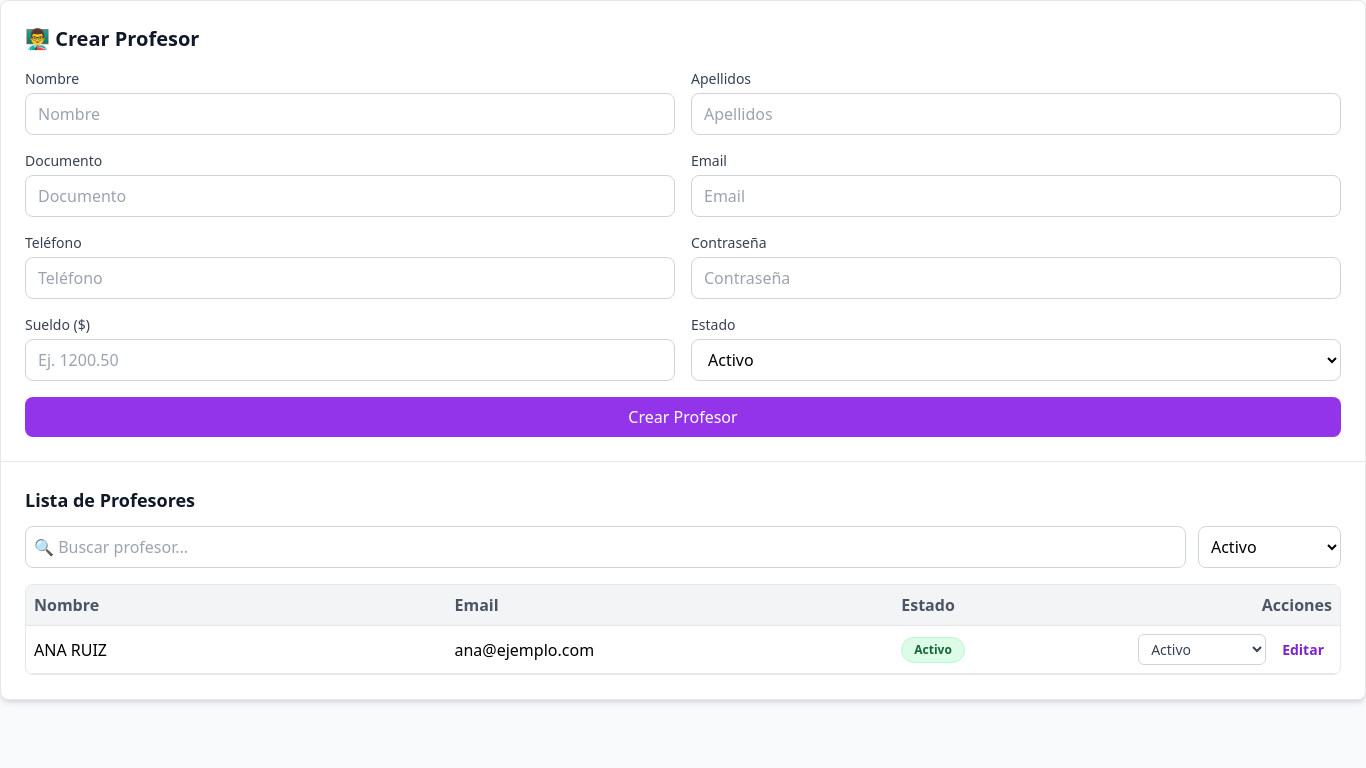
it: flujo de profesores de administración académica › confirma la desactivación y retira el profesor del filtro activo
Select "Inactivo" in the dropdown in the row of "RUIZ" at (1202, 650), box [1138,634,1266,665]
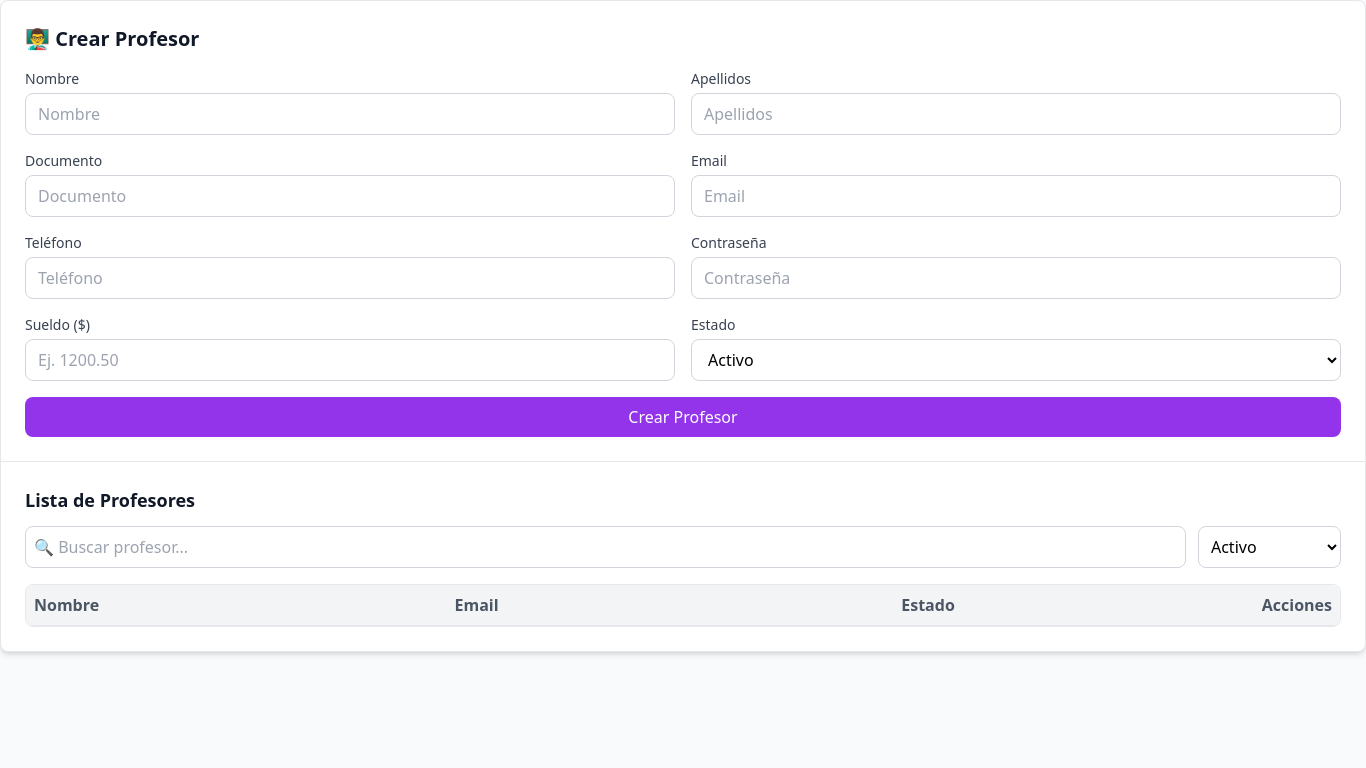
Result: the text "ANA RUIZ" is gone
